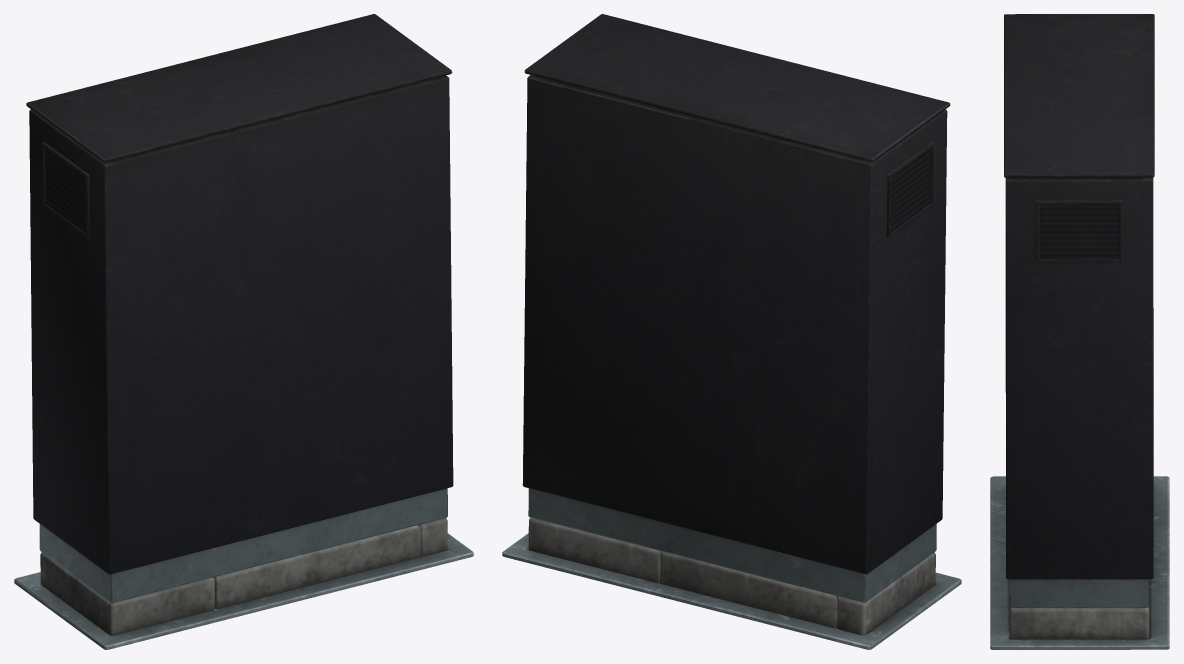
The model's file is Preset_BoxC.fbx.
The picture shows the model from 3 angles, left to right: view 1: azimuth 30°, elevation 25°; view 2: azimuth 150°, elevation 25°; view 3: azimuth 270°, elevation 25°; orthographic projection. The views are drawn at different scales.
Parts seen in each view (by area): view 1: BoxC; view 2: BoxC; view 3: BoxC.
Part boxes in pixels (<box>): BoxC: <box>14,14,473,649</box>; BoxC: <box>502,14,961,649</box>; BoxC: <box>990,14,1169,649</box>.
Bounding box in the file's own units: 121 × 52.67 × 153.
1 material, 1 textured.
